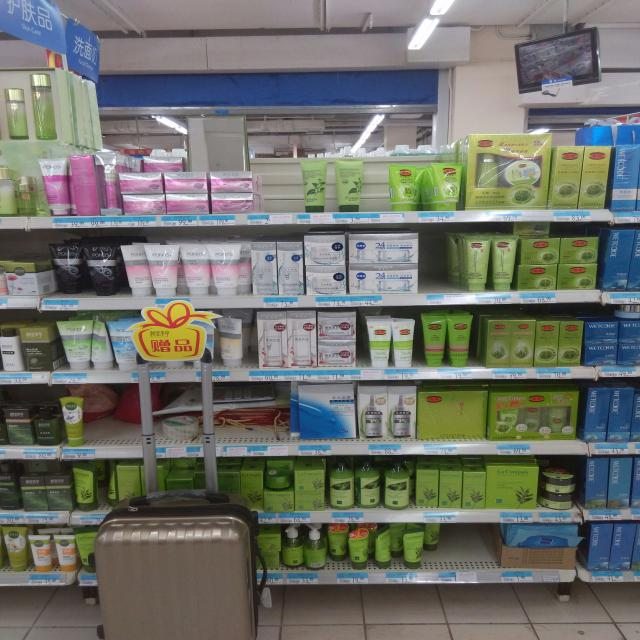empty: (256, 160, 308, 214), (444, 526, 494, 572), (357, 156, 394, 210), (416, 232, 449, 291)
